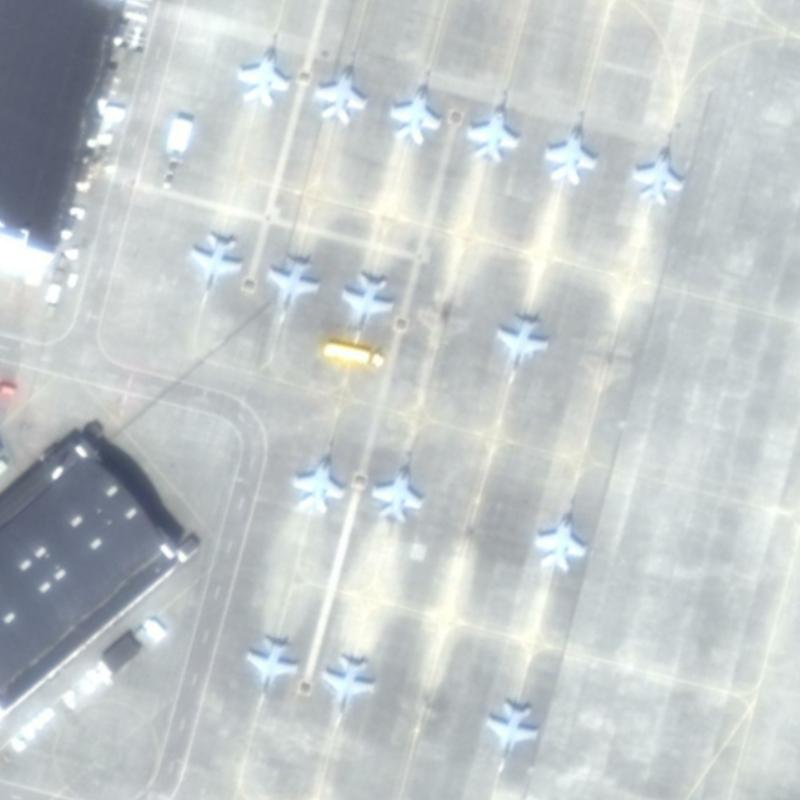A16: (475, 687, 546, 784), (224, 21, 299, 111), (330, 256, 398, 352), (483, 303, 555, 393), (281, 432, 350, 525), (526, 482, 595, 575), (313, 643, 380, 738), (622, 121, 689, 213), (234, 627, 303, 716), (362, 443, 432, 530), (180, 221, 246, 313), (535, 102, 602, 191), (308, 37, 372, 130), (260, 244, 324, 336), (380, 60, 444, 149), (459, 81, 524, 167)
